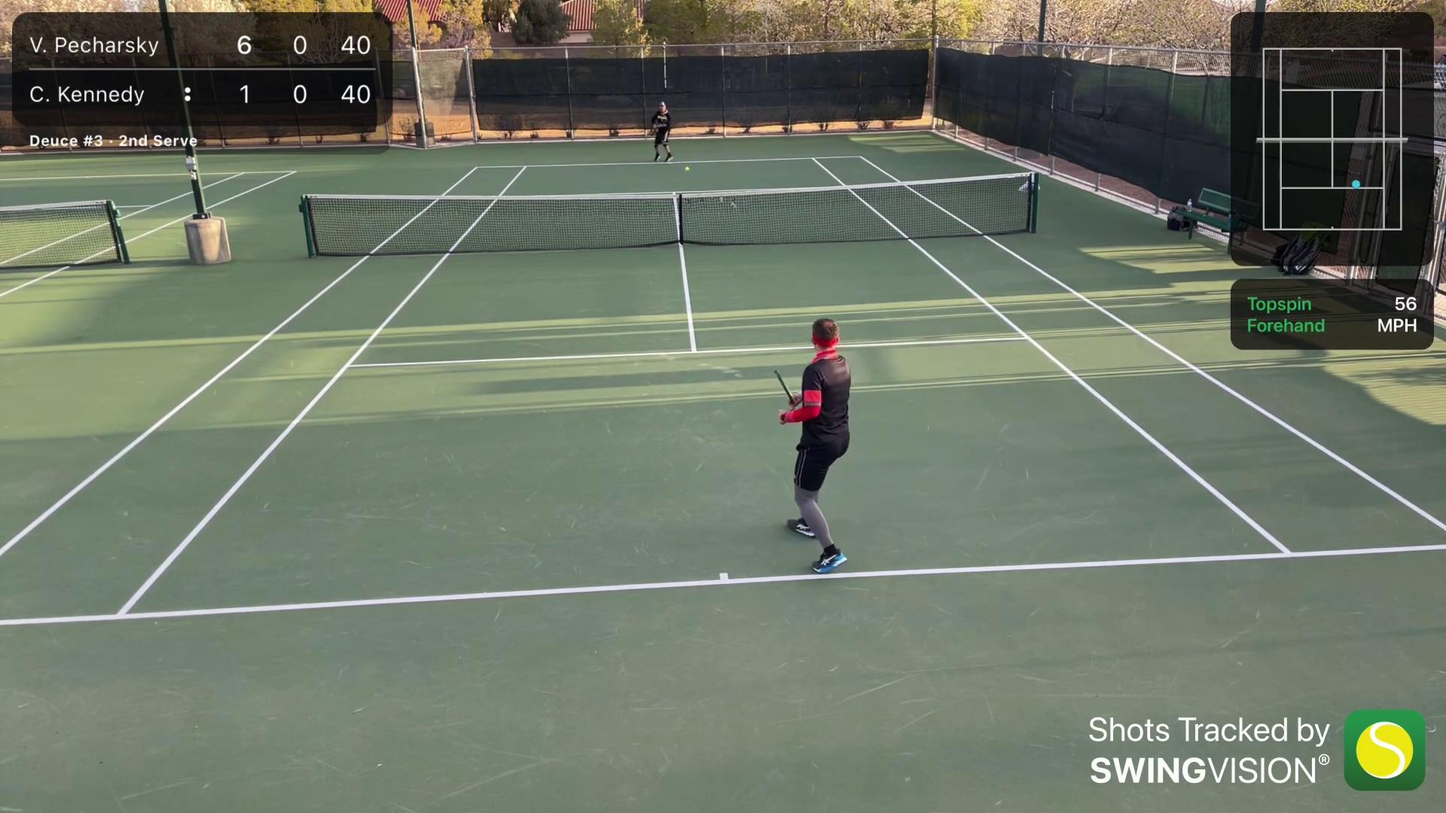ball: (684, 165, 691, 173)
